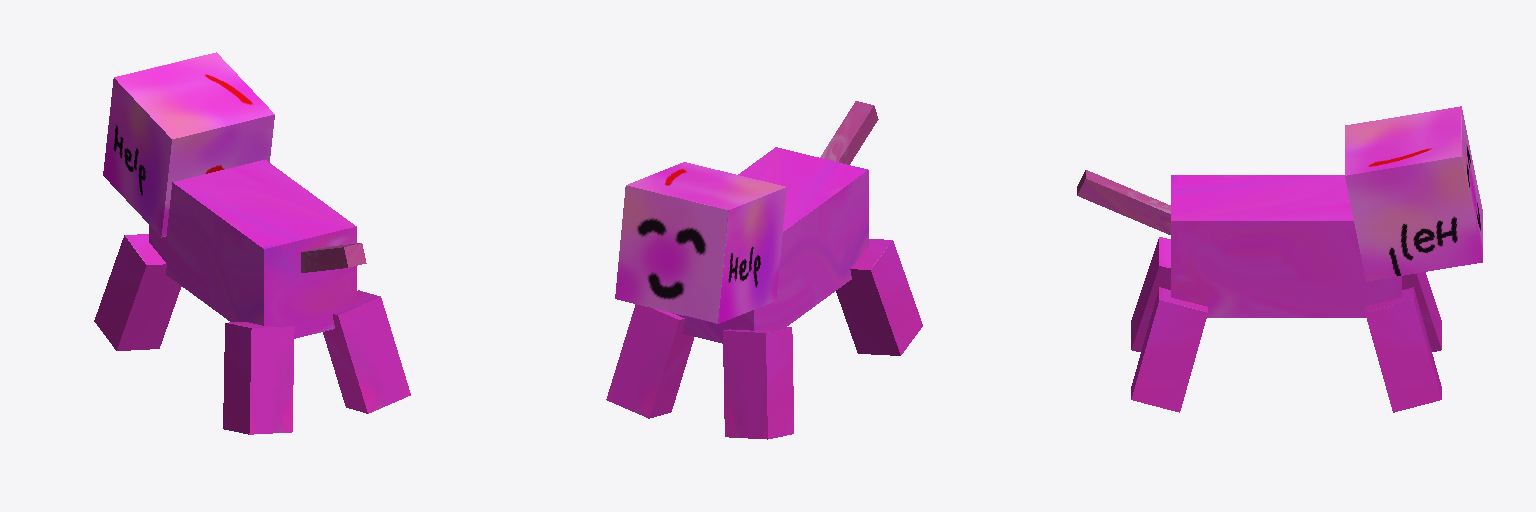
The picture shows the model from 3 angles: view 1: azimuth 30°, elevation 25°; view 2: azimuth 150°, elevation 25°; view 3: azimuth 270°, elevation 25°; orthographic projection.
Visible parts, largest first — view 1: Cube, Cube.002, Cube.001, Cube.003; view 2: Cube.001, Cube.002, Cube, Cube.003; view 3: Cube, Cube.001, Cube.002, Cube.003.
Boxes of the visible parts, box(x1,y1,x2,y2) form: Cube: box(149, 160, 356, 338); Cube.002: box(94, 234, 410, 434); Cube.001: box(103, 52, 274, 237); Cube.003: box(301, 243, 366, 272); Cube.001: box(615, 162, 786, 323); Cube.002: box(606, 239, 922, 439); Cube: box(673, 147, 868, 343); Cube.003: box(820, 101, 878, 164); Cube: box(1171, 175, 1401, 317); Cube.001: box(1345, 106, 1482, 281); Cube.002: box(1131, 237, 1441, 412); Cube.003: box(1077, 170, 1170, 234).
Bounding box in the file's own units: 3.57 × 5.13 × 7.57.
Materials: 4 (1 with a texture image).